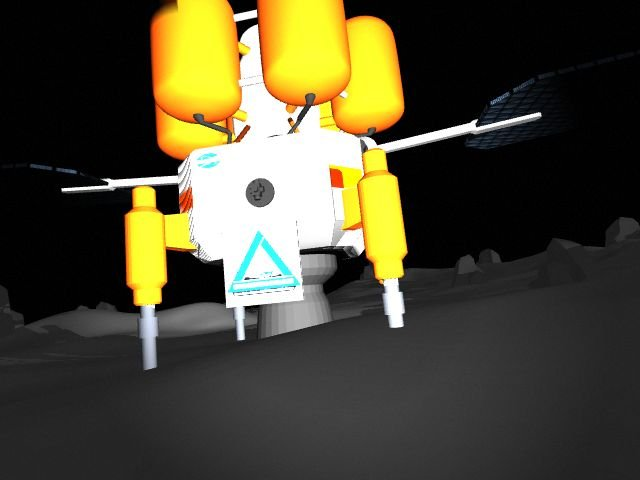basemarker: (227, 229, 303, 296)
